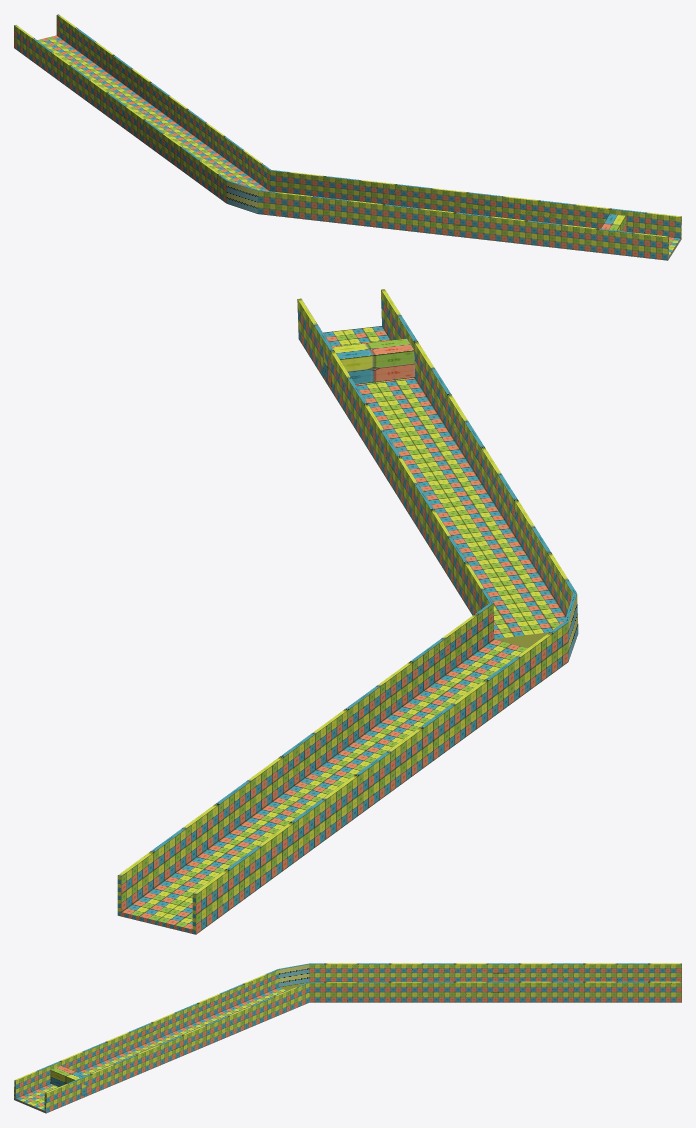
The model's file is SUTE2_01.obj.
3 views of the same model, one above another, from view 1: azimuth 30°, elevation 25°; view 2: azimuth 150°, elevation 25°; view 3: azimuth 270°, elevation 25° (orthographic). The views are drawn at different scales.
Visible parts, largest first — view 1: obj1; view 2: obj1; view 3: obj1.
Part boxes in pixels (box(x1,y1,x2,y2)): obj1: box(14, 14, 681, 260); obj1: box(117, 289, 578, 934); obj1: box(14, 963, 681, 1113).
Size of the model in its own units: 41.42 by 2.97 by 89.69.
